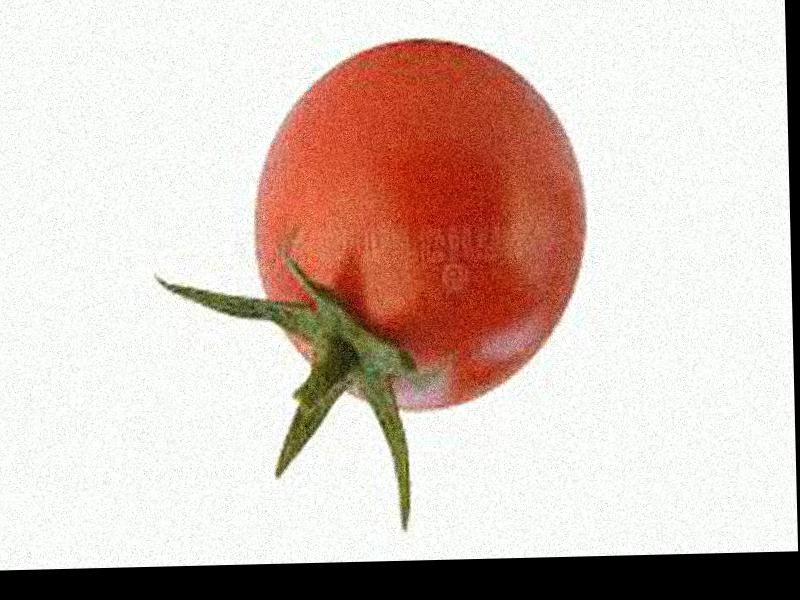Tomato: (253, 34, 591, 412)
